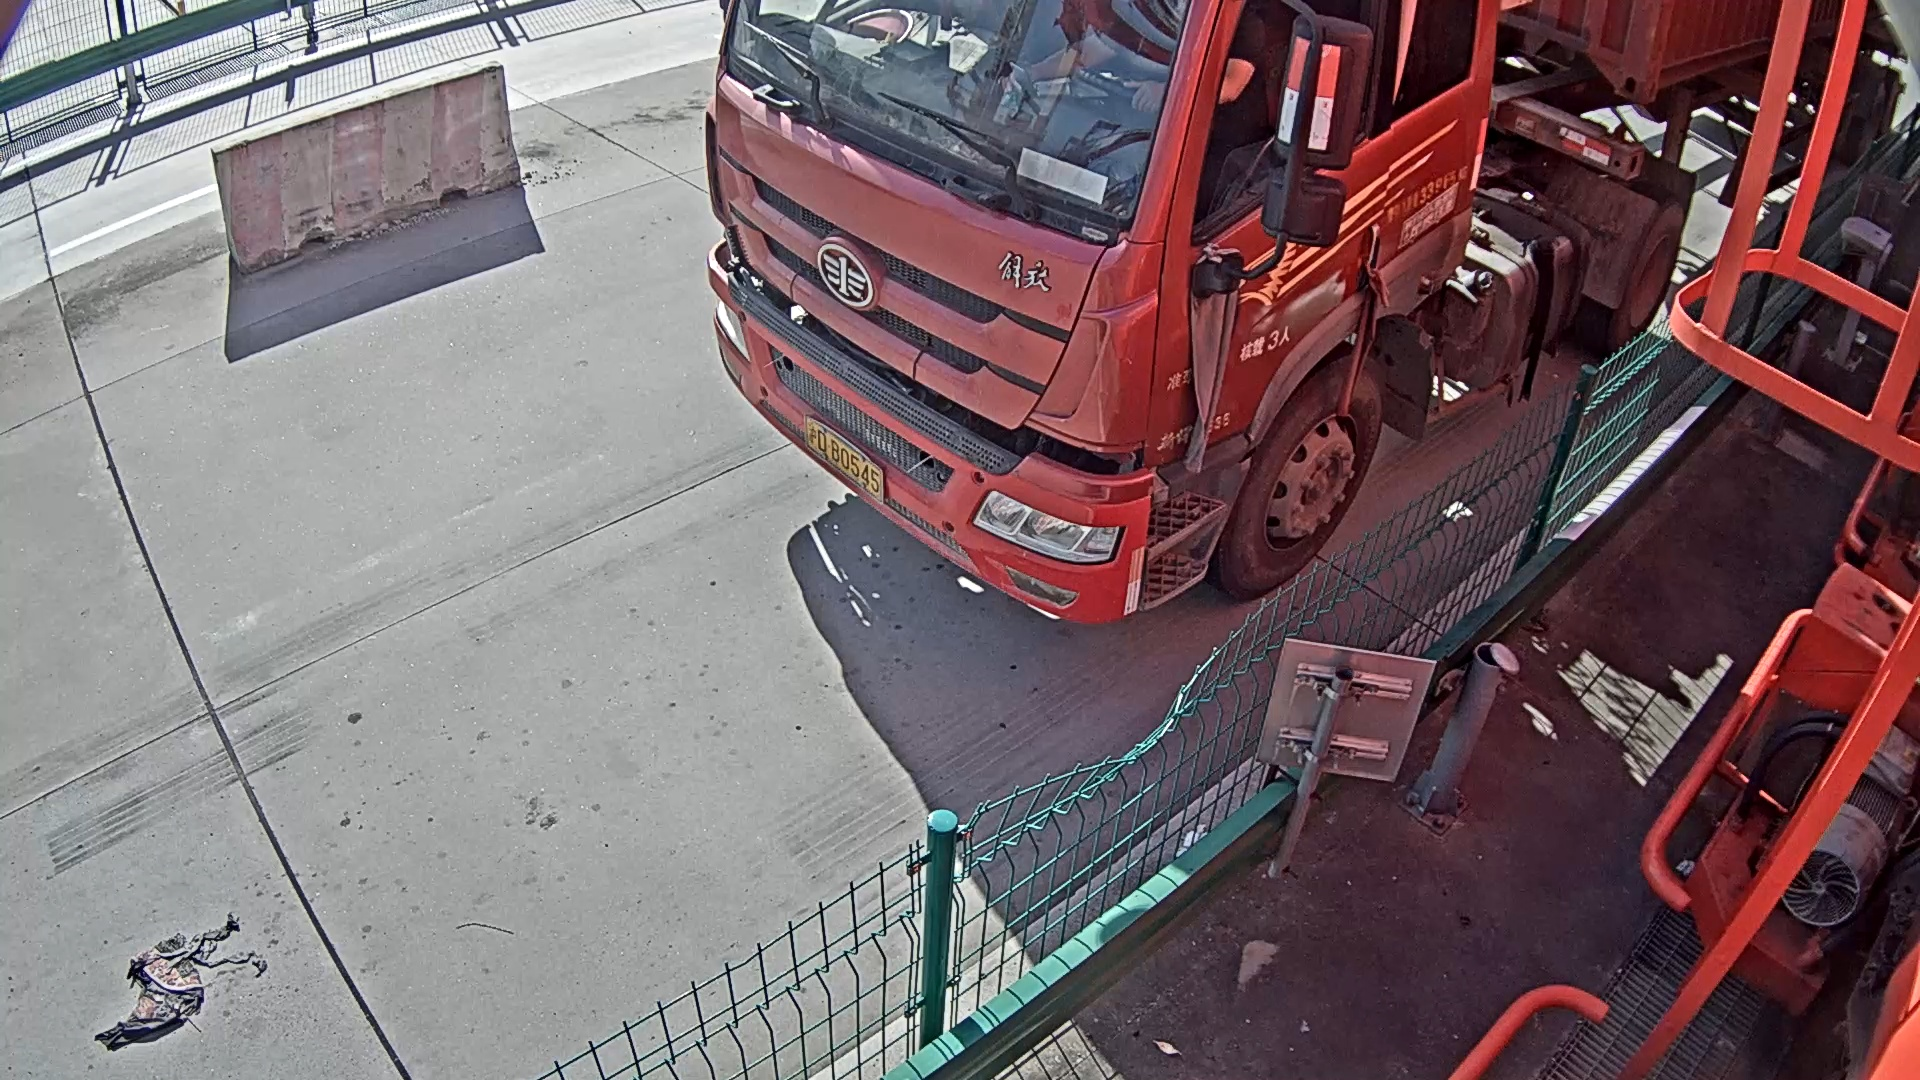head: (705, 1, 1505, 620)
plate: (802, 415, 886, 497)
